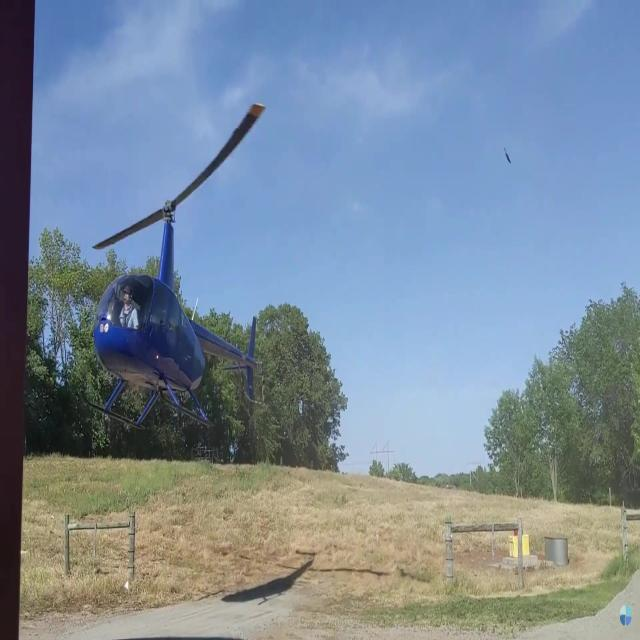CIV_HELO: (78, 195, 258, 433)
